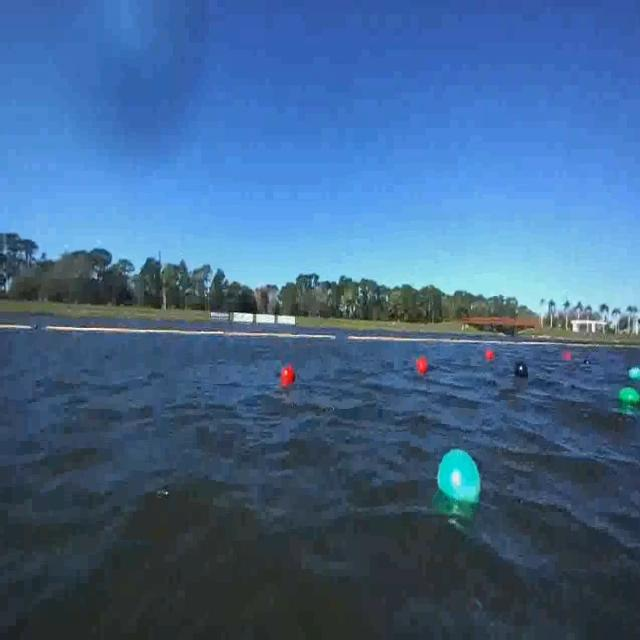black-buoy: (514, 358, 530, 378)
green-buoy: (438, 449, 482, 503), (618, 385, 640, 405), (628, 366, 640, 381)
red-buoy: (281, 366, 296, 387), (417, 357, 429, 376), (486, 350, 495, 361)
